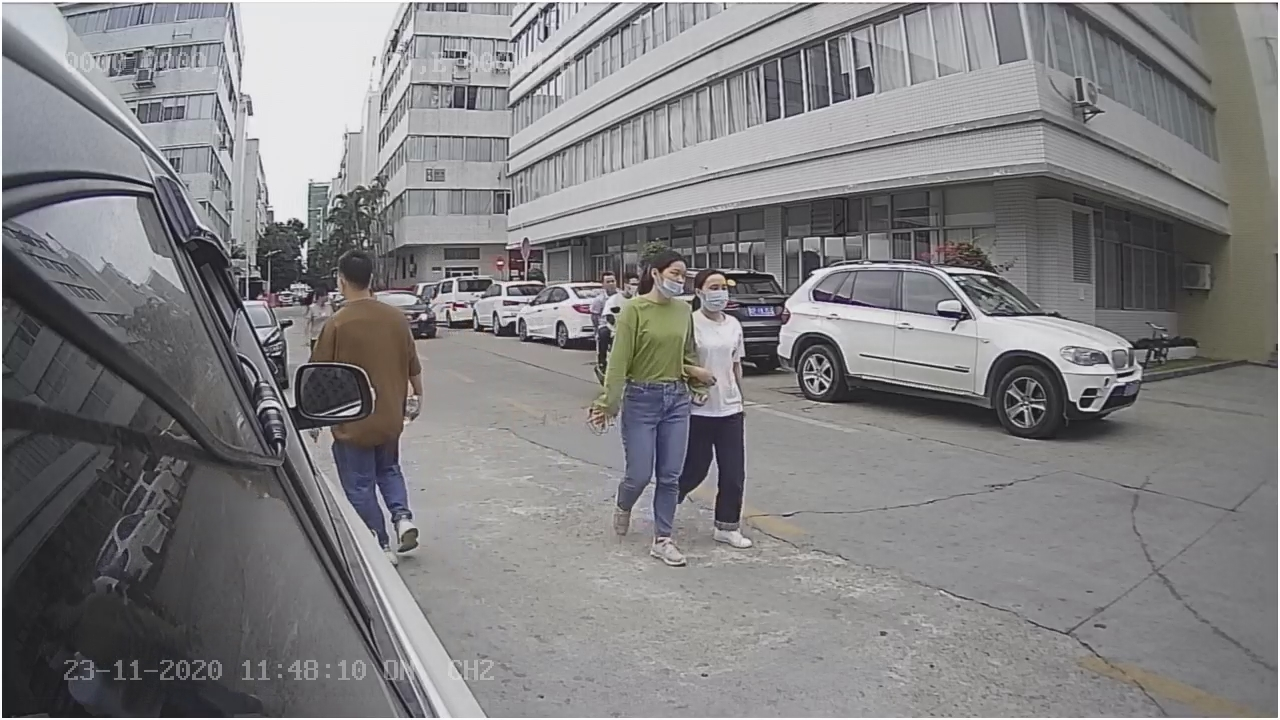person: (582, 247, 712, 563)
